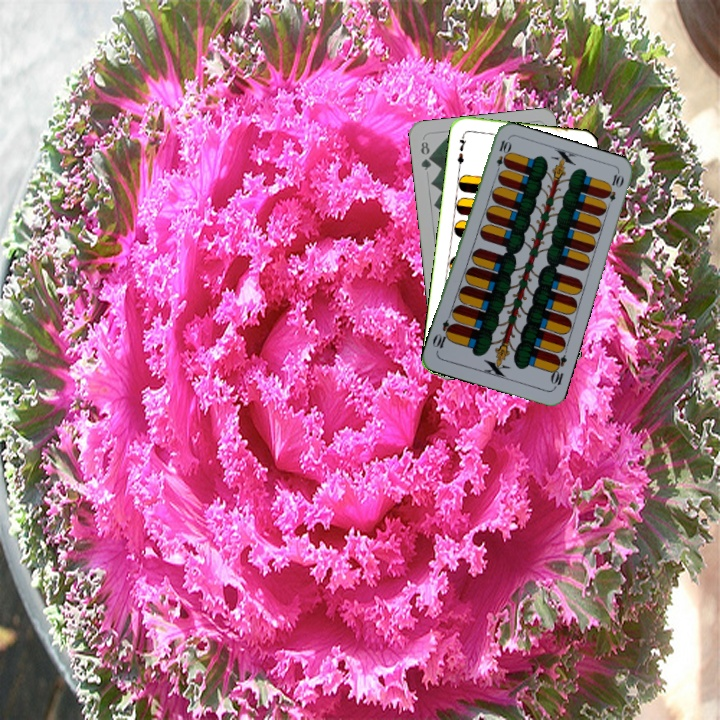E10: (546, 351, 569, 391), (492, 136, 512, 177)
E7: (453, 130, 469, 171)
G8: (416, 137, 434, 173)
